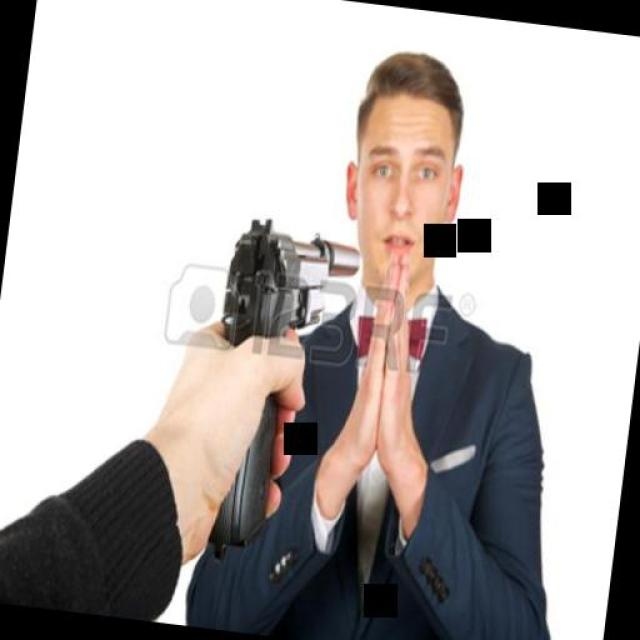gun: (184, 211, 364, 545)
